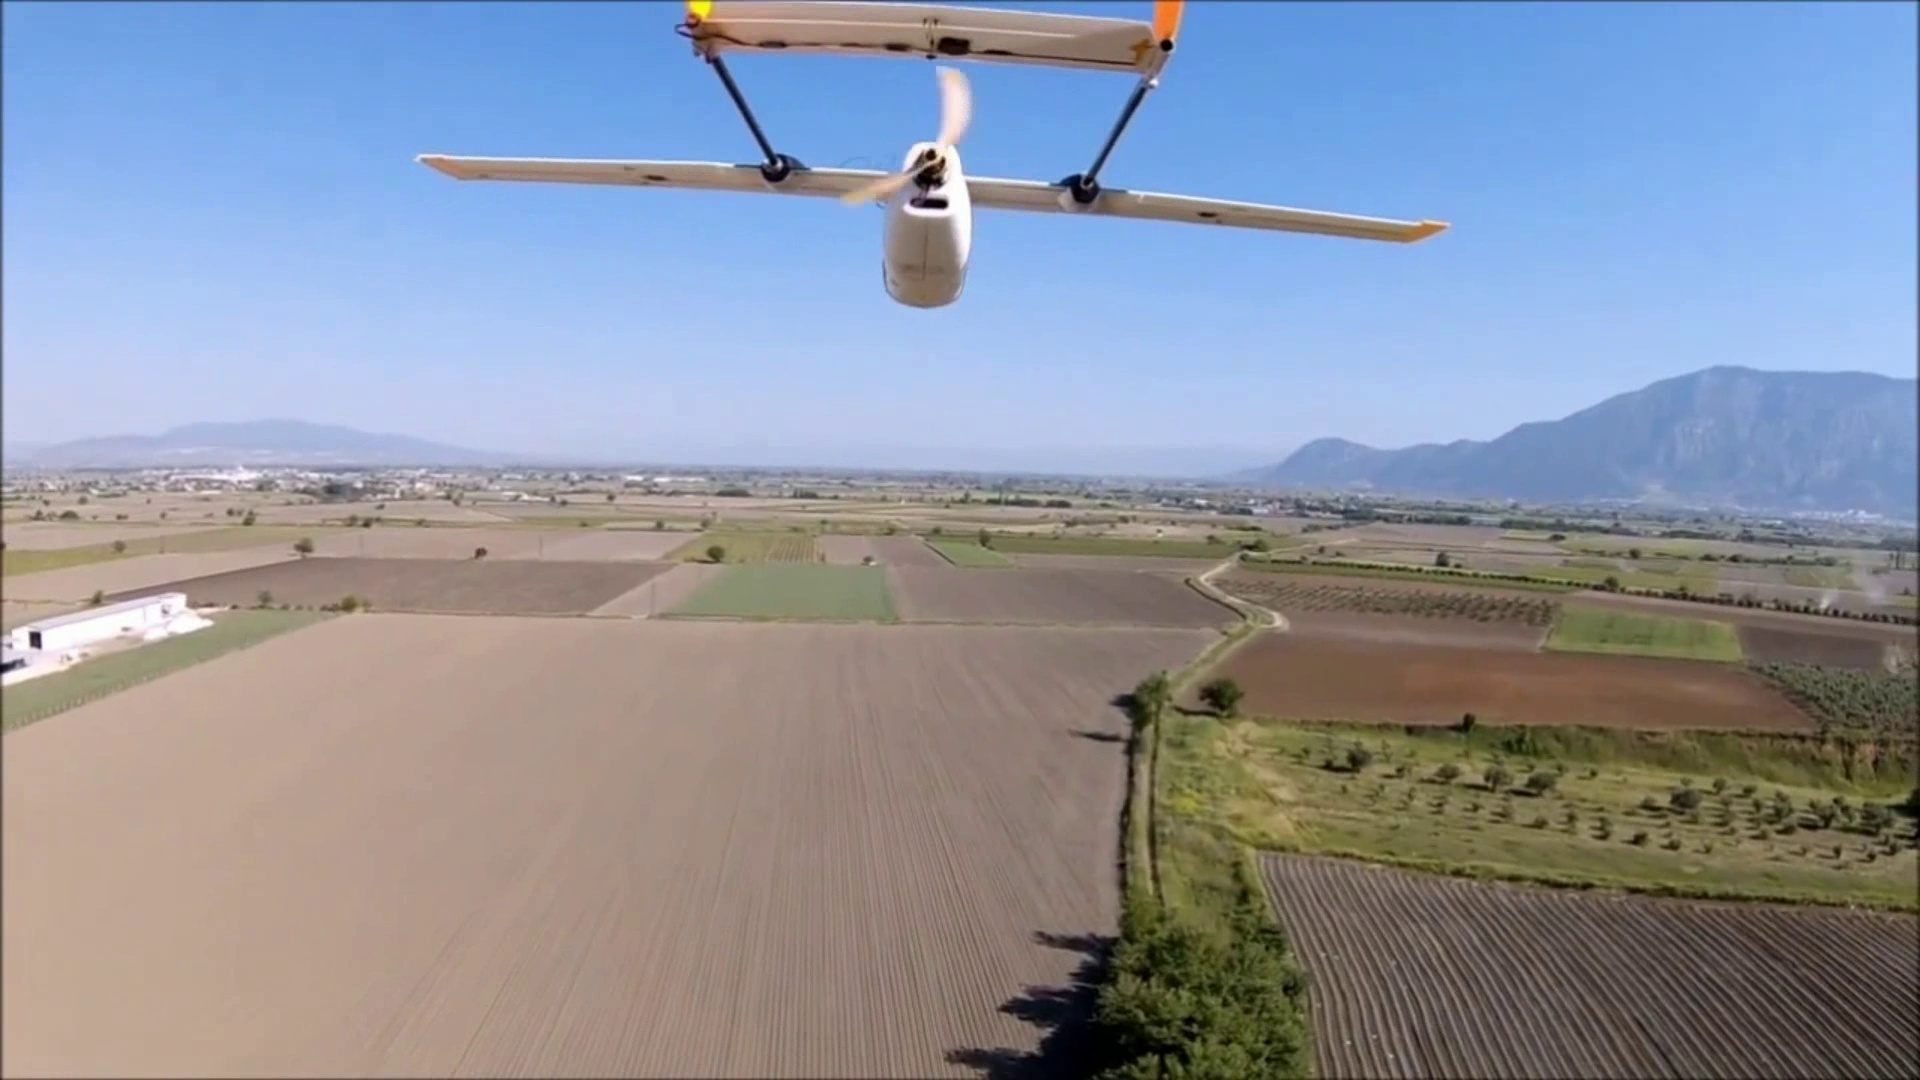airplane: (419, 7, 1447, 307)
